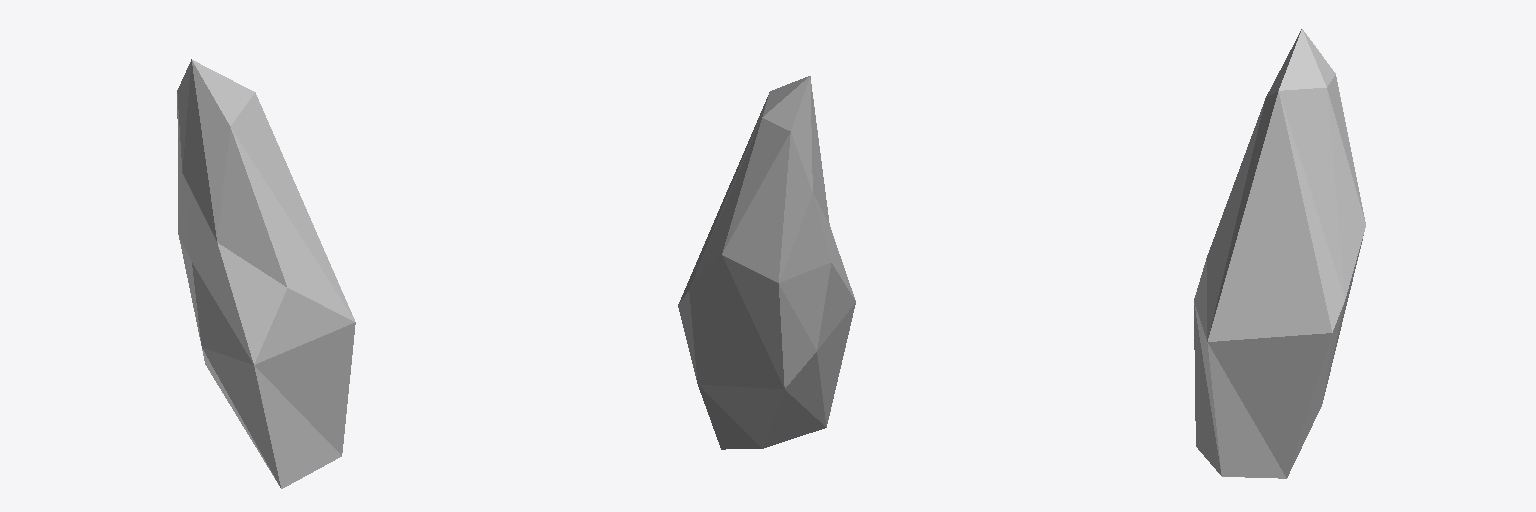
File: Cristal2.obj
3 renders of one model, left to right at view 1: azimuth 30°, elevation 25°; view 2: azimuth 150°, elevation 25°; view 3: azimuth 270°, elevation 25°, orthographic.
Visible parts, largest first — view 1: Group63898; view 2: Group63898; view 3: Group63898.
Part boxes in pixels (bbox=[...]): Group63898: bbox=[177, 59, 355, 488]; Group63898: bbox=[678, 76, 855, 449]; Group63898: bbox=[1194, 29, 1365, 478].
Bounding box in the file's own units: 1.94 × 5.84 × 2.26.